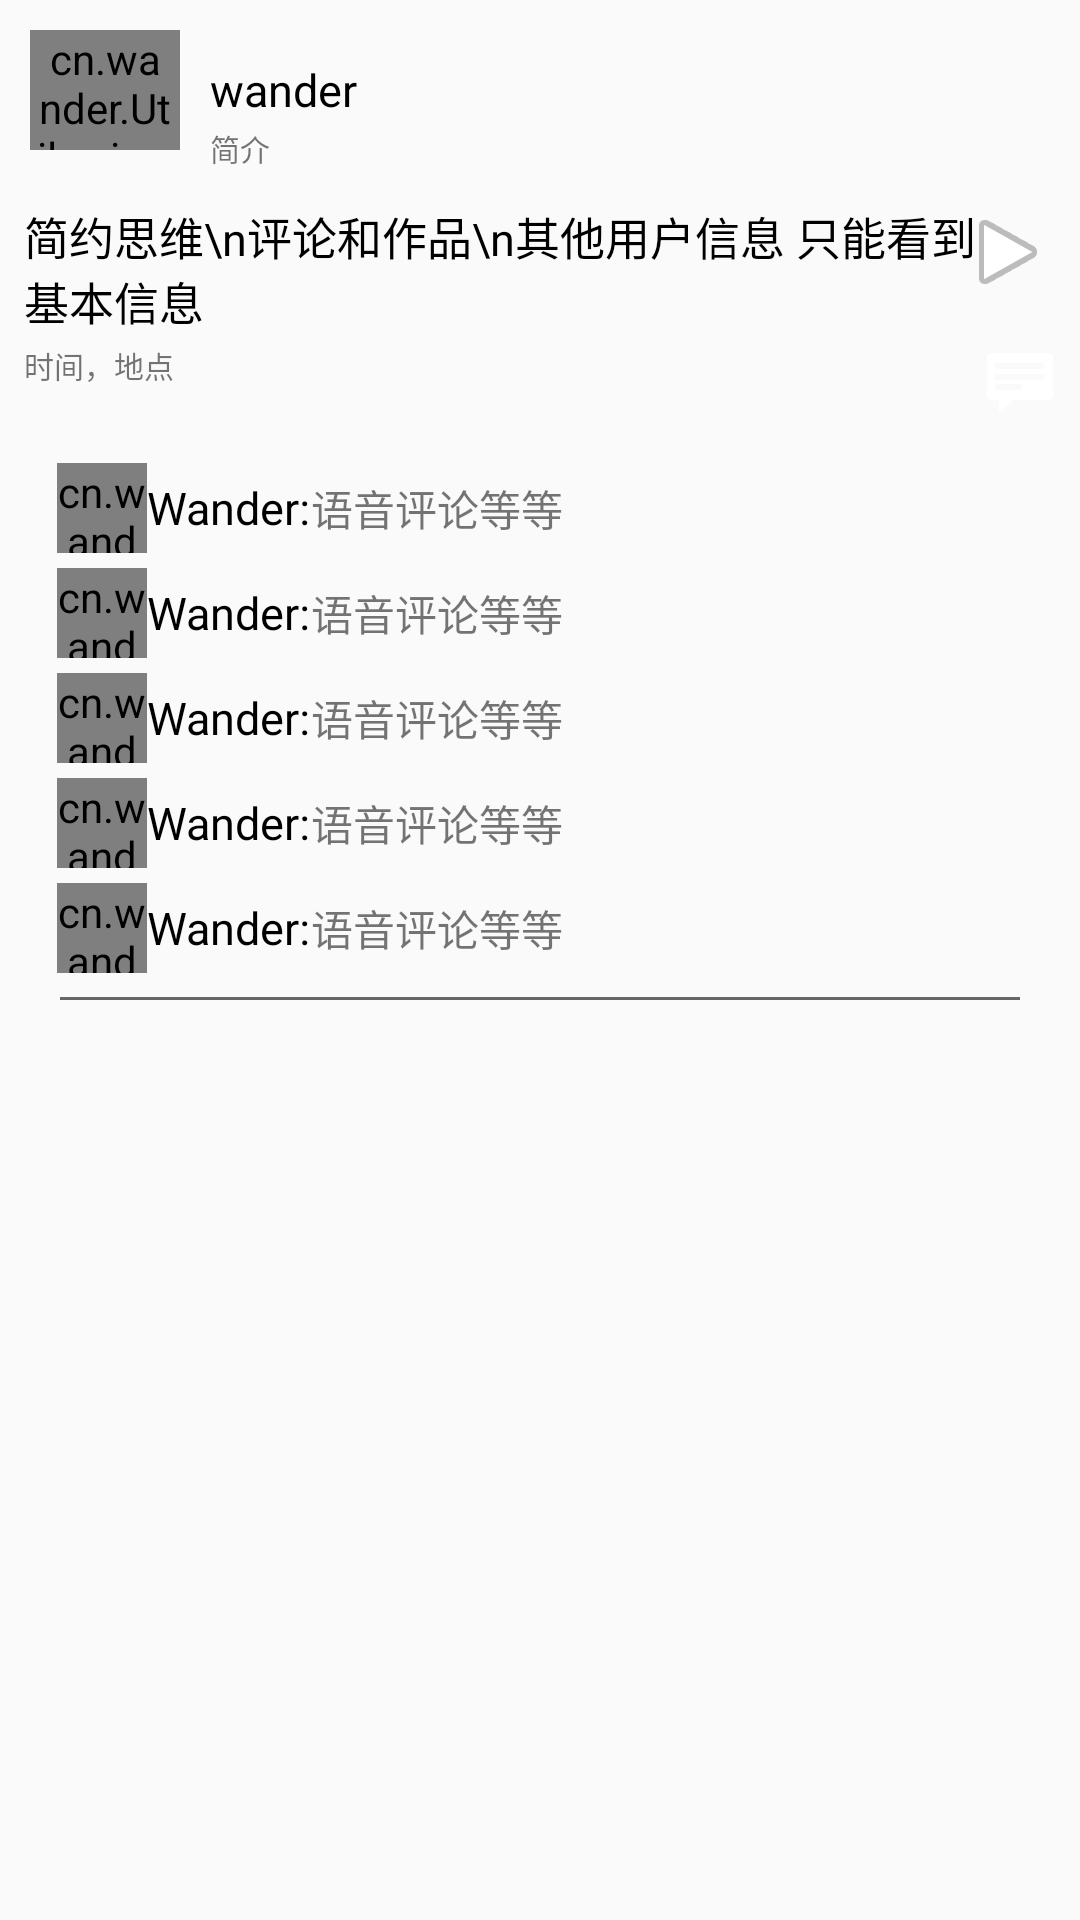

Screen size 1080×1920. Icon name, then its box in pixels as [x1, y1, x2, y2]:
play: [960, 218, 1037, 284]
